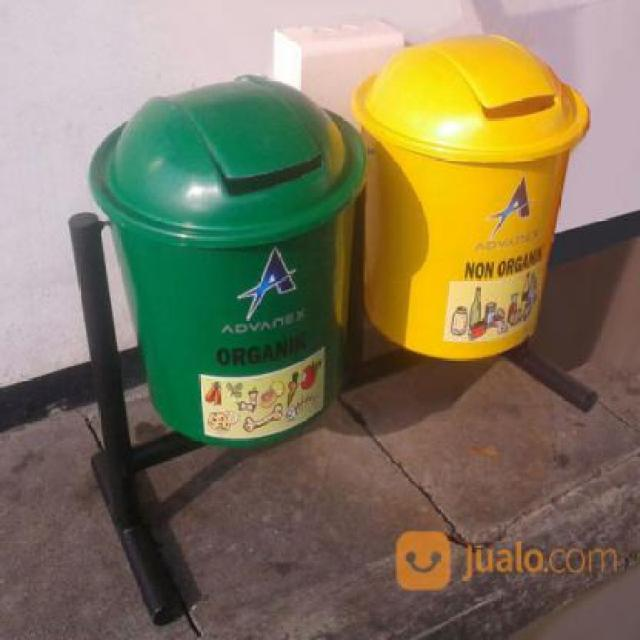garbage container: (79, 60, 372, 460), (353, 27, 596, 379)
